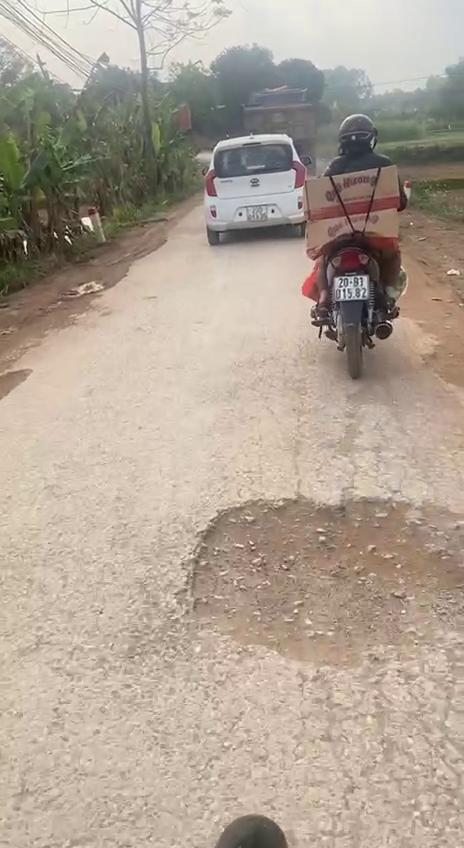pothole: (168, 475, 464, 672), (0, 362, 38, 405)
